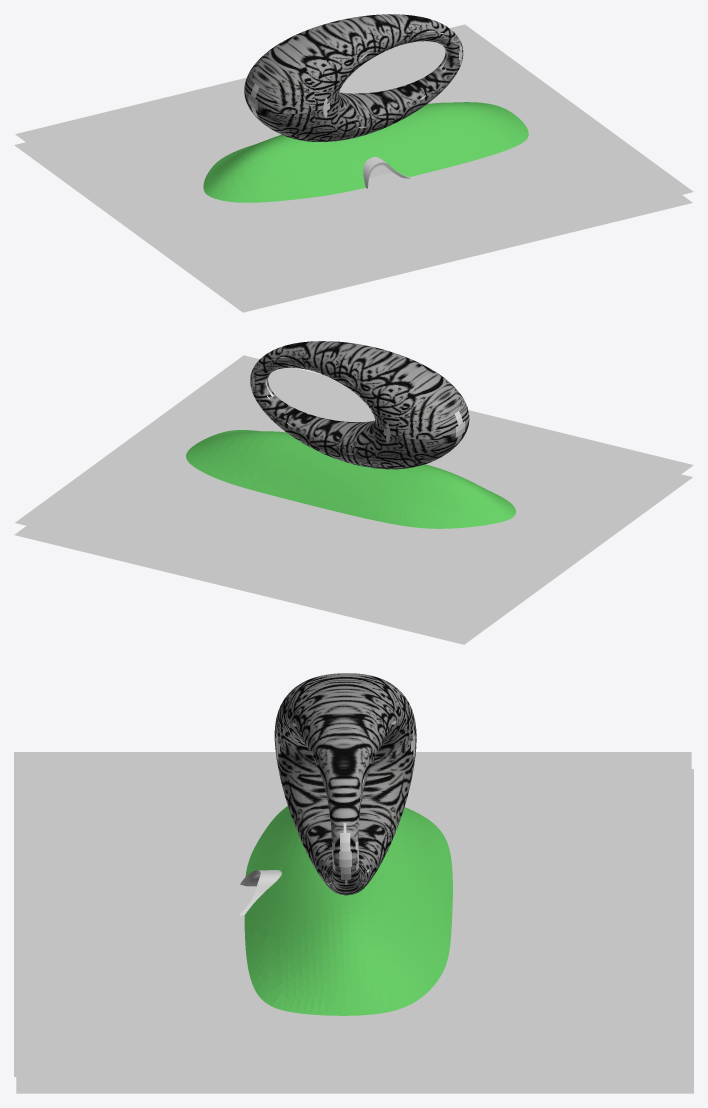
File: Meuseum.glb
3 renders of one model, top to bottom at view 1: azimuth 30°, elevation 25°; view 2: azimuth 150°, elevation 25°; view 3: azimuth 270°, elevation 25°, orthographic. The views are drawn at different scales.
Parts seen in each view (by area): view 1: Plane.001, MeshBody1.003, MeshBody1, Plane.002; view 2: Plane.001, MeshBody1.003, MeshBody1, Plane.002; view 3: Plane.001, MeshBody1, MeshBody1.003, Plane.002, MeshBody2.
Boxes of the visible parts, bbox=[...] form: Plane.001: bbox=[15, 24, 693, 301]; MeshBody1.003: bbox=[244, 14, 463, 141]; MeshBody1: bbox=[203, 102, 528, 202]; Plane.002: bbox=[14, 142, 692, 312]; Plane.001: bbox=[15, 355, 693, 632]; MeshBody1.003: bbox=[250, 341, 469, 469]; MeshBody1: bbox=[186, 430, 515, 528]; Plane.002: bbox=[14, 474, 692, 644]; Plane.001: bbox=[14, 752, 691, 1076]; MeshBody1: bbox=[244, 806, 452, 1015]; MeshBody1.003: bbox=[274, 673, 416, 895]; Plane.002: bbox=[16, 769, 693, 1093]; MeshBody2: bbox=[239, 870, 281, 915].
Size of what is drawn, in the model's own units: 185 by 60.8 by 164.
223 materials, 1 textured.
